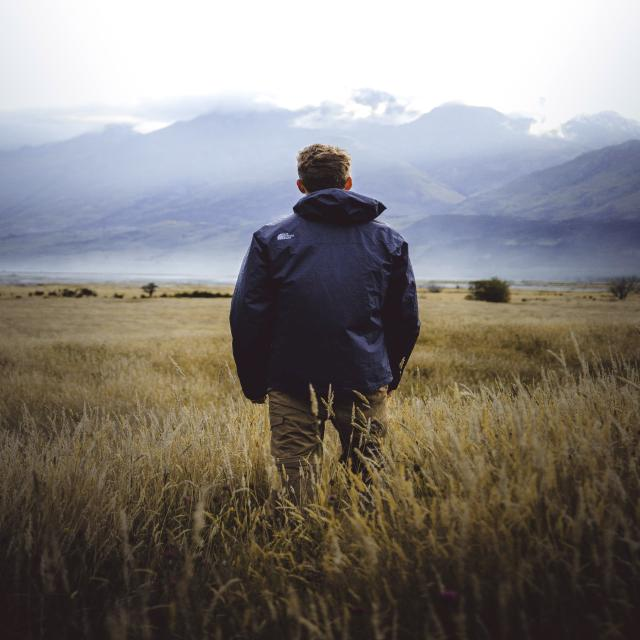adult: (225, 144, 420, 496)
